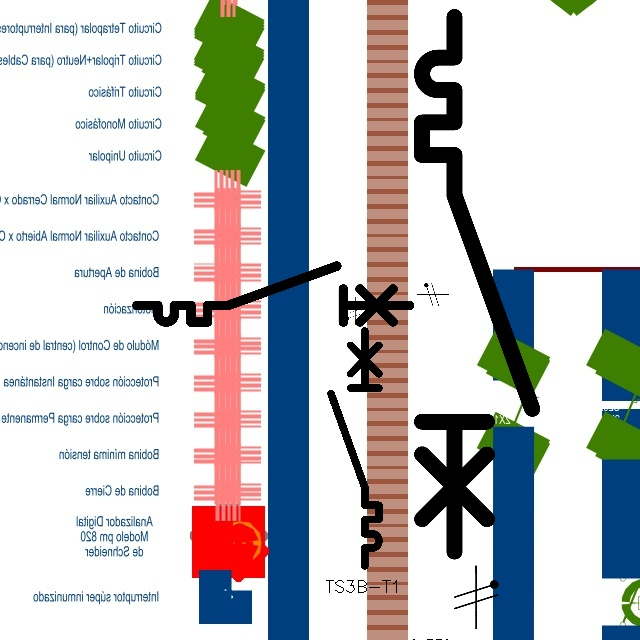interruptor_termomagnetico: (408, 3, 545, 565), (130, 259, 417, 329), (325, 325, 385, 572)
